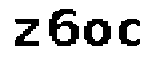6: (48, 5, 78, 49)
c: (117, 18, 144, 48)
o: (83, 16, 112, 48)
z: (12, 15, 43, 51)
